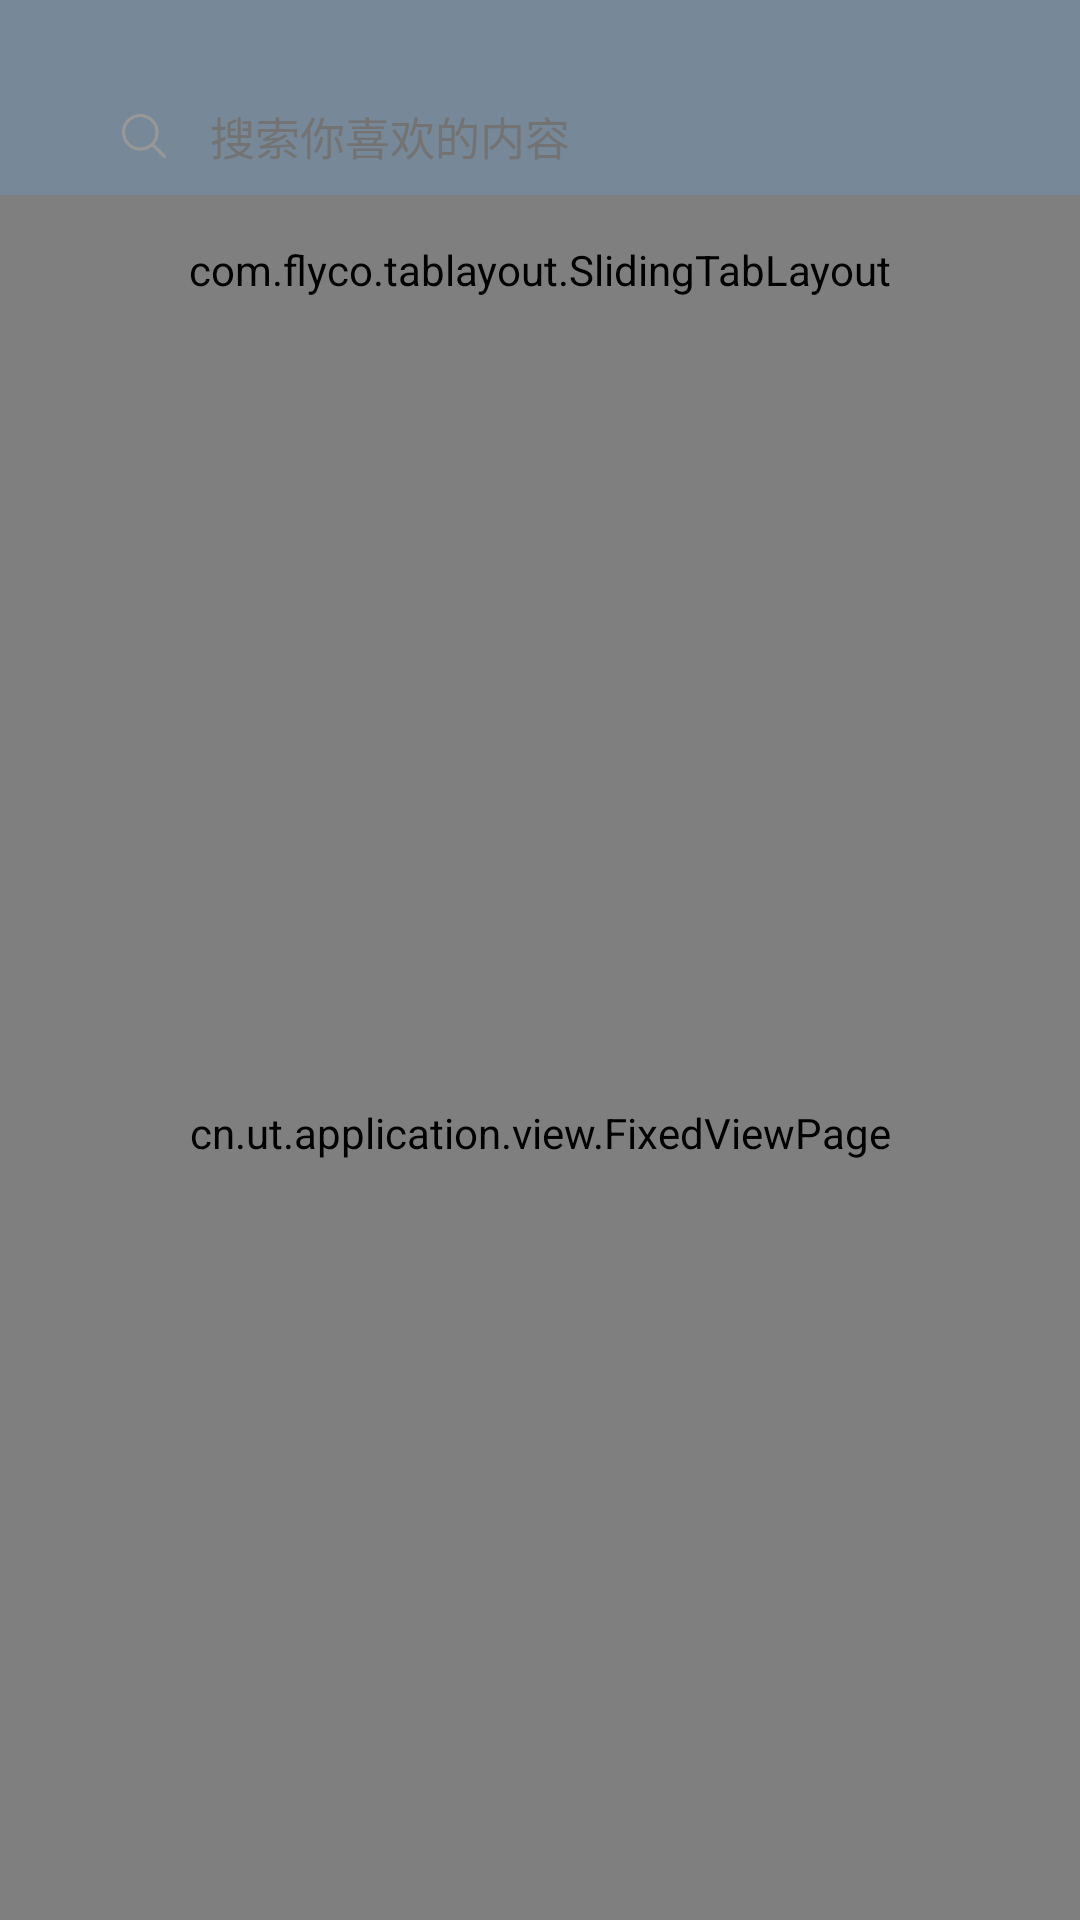

Icons on this 1080px x 1920px Android screen, each with its box as detection(x1, y1, x2, y2):
search: detection(122, 114, 166, 158)
